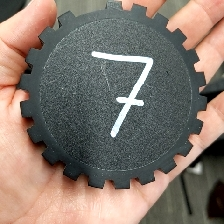gear: (17, 1, 210, 191)
missing: (58, 1, 125, 31)
